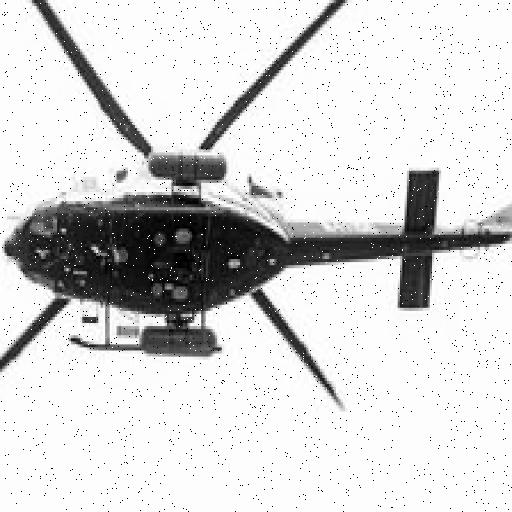helicopter: (1, 1, 512, 415)
